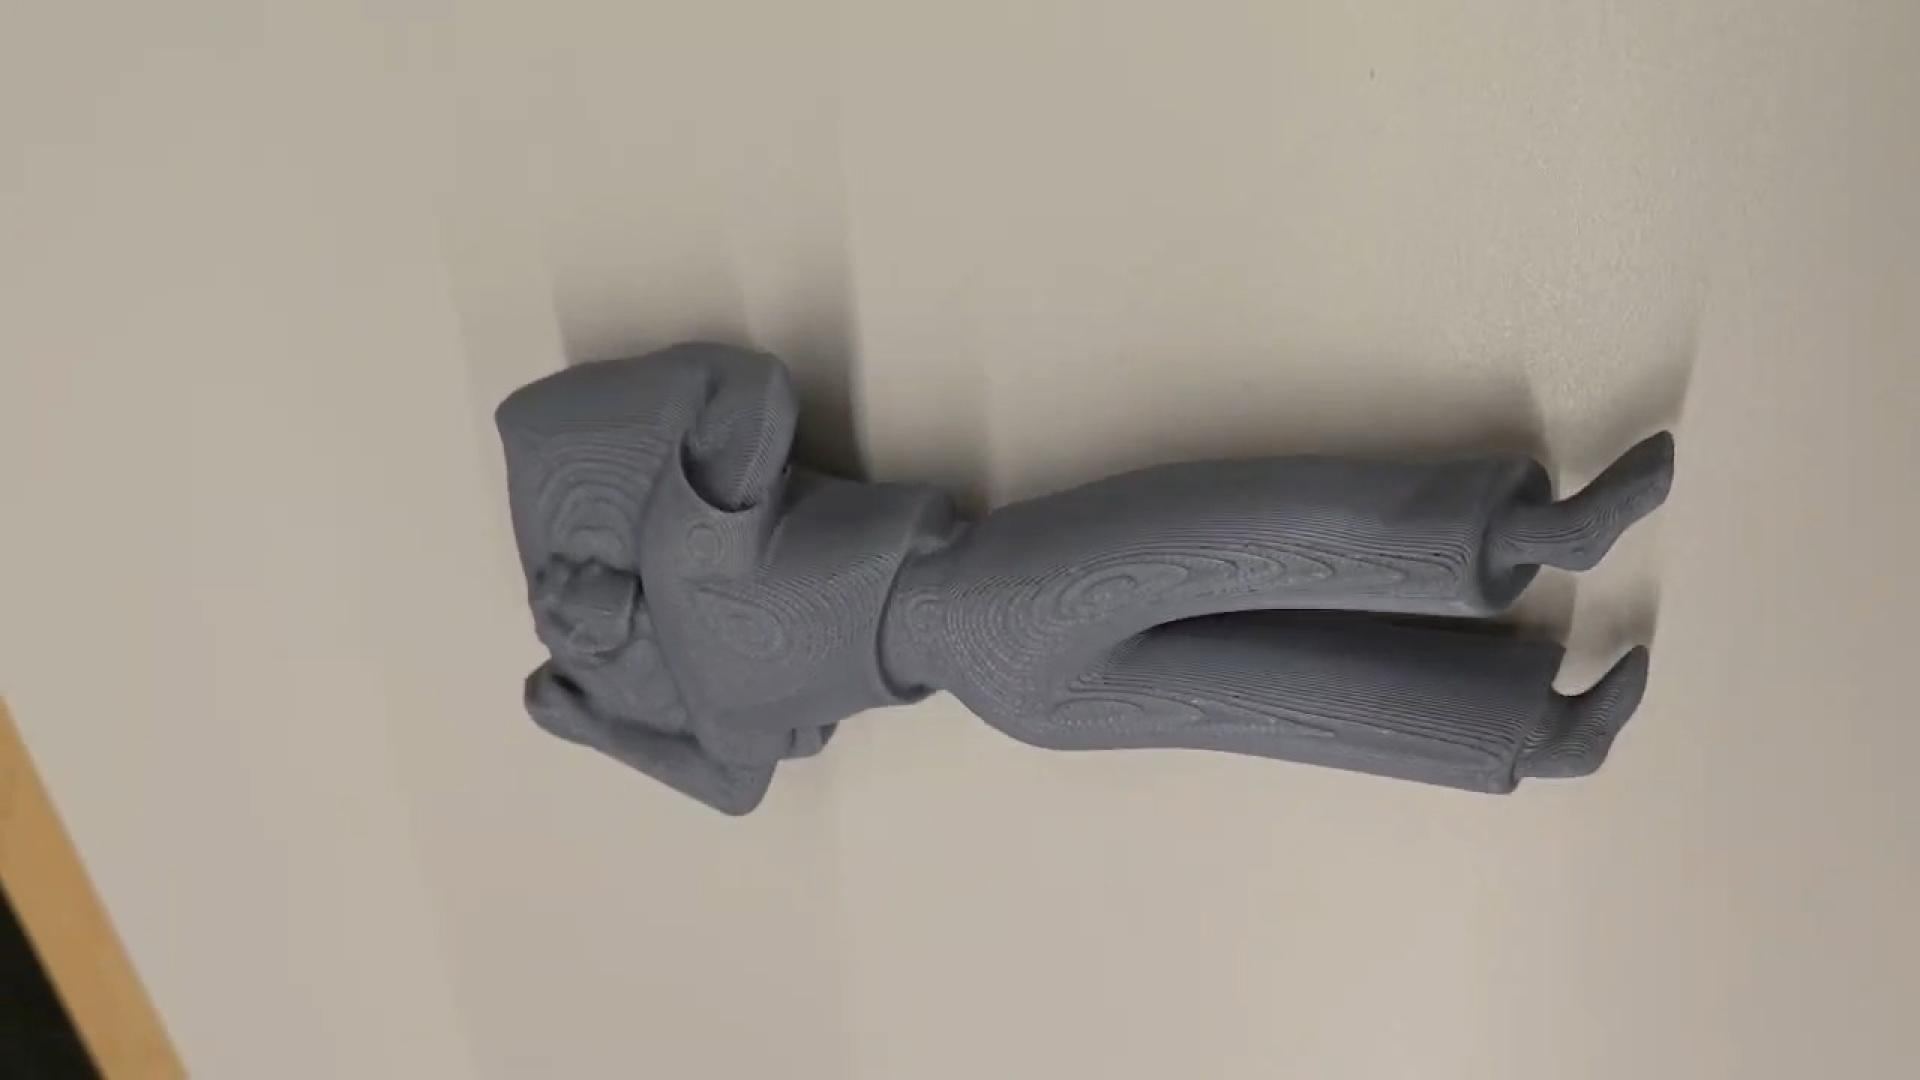Bad-style: (479, 306, 1687, 828)
